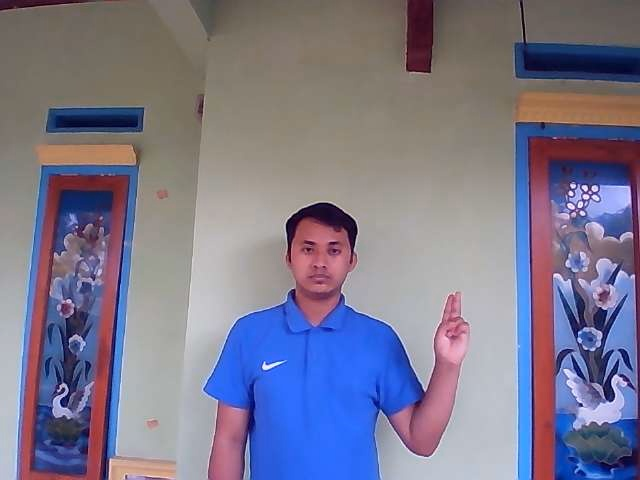U: (432, 290, 471, 367)
